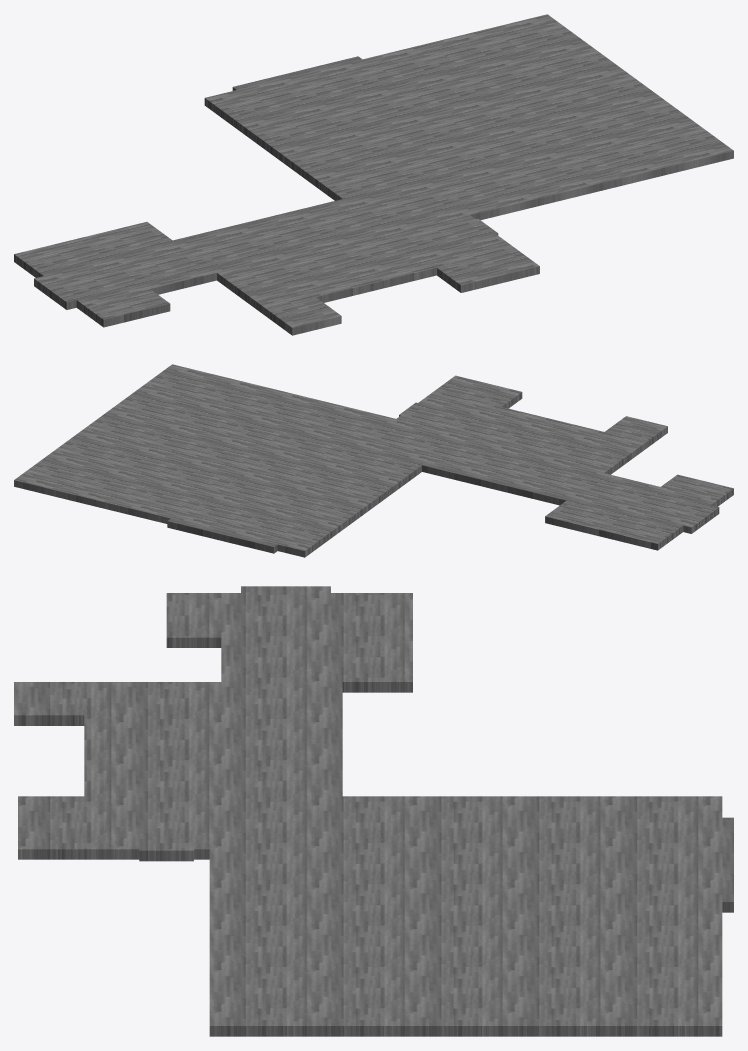
The model's file is 1860_kitchen_Floor_Pine.gltf.
3 views of the same model, one above another, from view 1: azimuth 30°, elevation 25°; view 2: azimuth 150°, elevation 25°; view 3: azimuth 270°, elevation 25° (orthographic). The views are drawn at different scales.
Visible parts, largest first — view 1: Line23781; view 2: Line23781; view 3: Line23781.
Part boxes in pixels (x1,y1,x2,y2): Line23781: (14, 14, 733, 335); Line23781: (14, 364, 733, 557); Line23781: (14, 586, 733, 1036).
Size of the model in its own units: 26.6 by 0.3 by 18.4.
